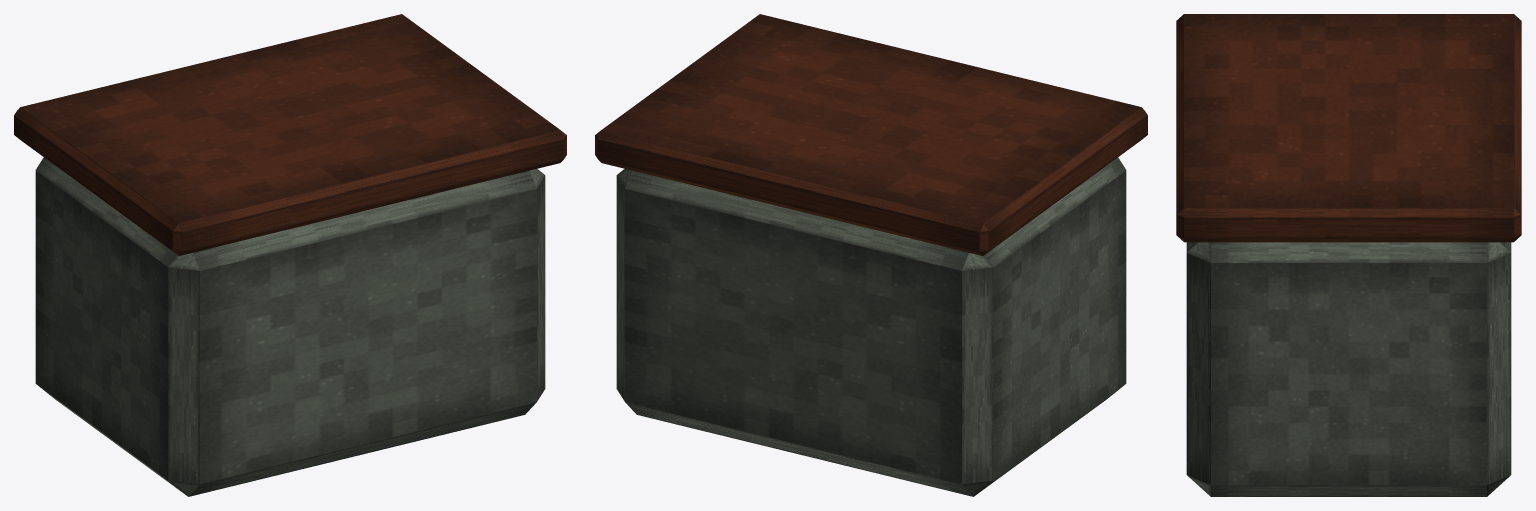
Rendered from THStage_FindSupport_08.fbx.
The picture shows the model from 3 angles, left to right: view 1: azimuth 30°, elevation 25°; view 2: azimuth 150°, elevation 25°; view 3: azimuth 270°, elevation 25°; orthographic projection. The views are drawn at different scales.
Visible parts, largest first — view 1: THStage_FindSupport_08.009; view 2: THStage_FindSupport_08.009; view 3: THStage_FindSupport_08.009.
Part boxes in pixels (bbox=[...]): THStage_FindSupport_08.009: bbox=[14, 14, 566, 496]; THStage_FindSupport_08.009: bbox=[595, 14, 1147, 496]; THStage_FindSupport_08.009: bbox=[1176, 14, 1521, 496].
Size of the model in its own units: 0.35 by 0.245 by 0.255.
Materials: 1 (1 with a texture image).
